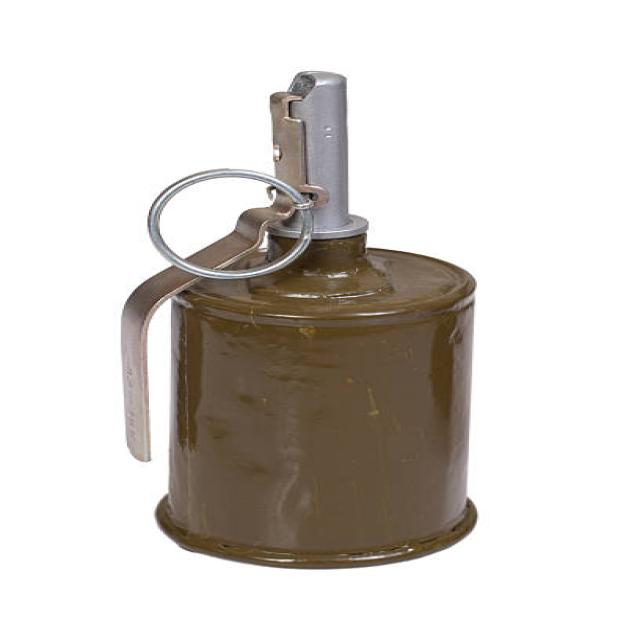grenade: (101, 67, 503, 575)
